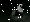person: (13, 6, 23, 20)
